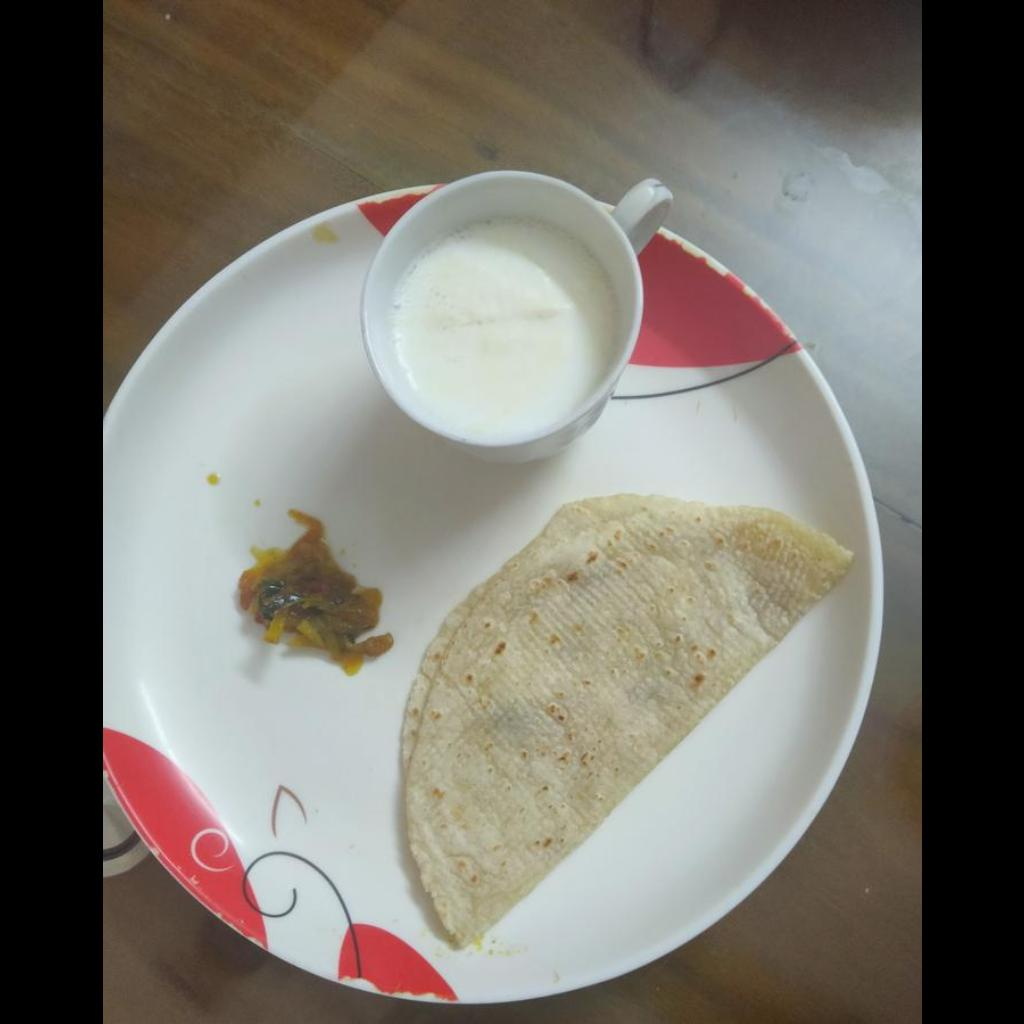achar: (237, 511, 391, 674)
milk: (387, 220, 626, 440)
ruti: (397, 493, 858, 960)
